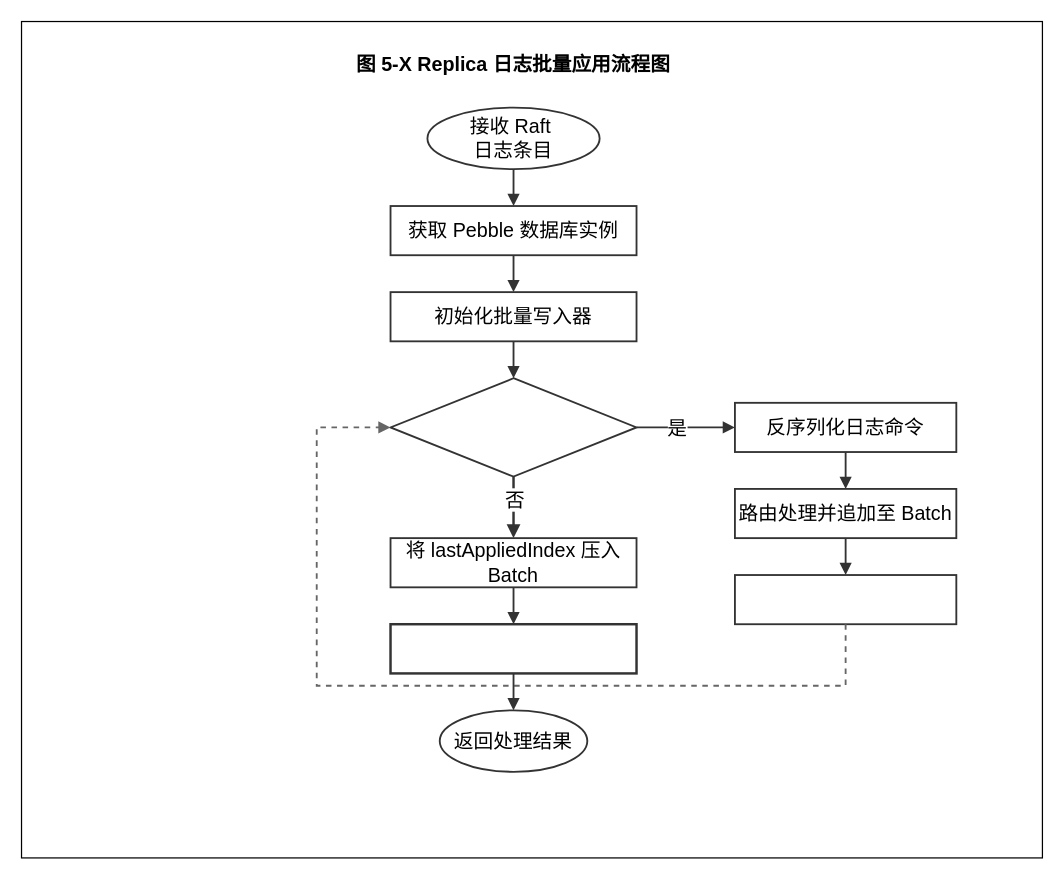
Image size: 1064x879. Some labels were removed from this diagram. Here are the shapes that lost their labels. From the top down, the centre of each, then its label:
At (513,427): "是否还有待处理 的日志条目？".
At (845,599): "步入内存高位线".
At (513,648): "同步提交批量写入".
